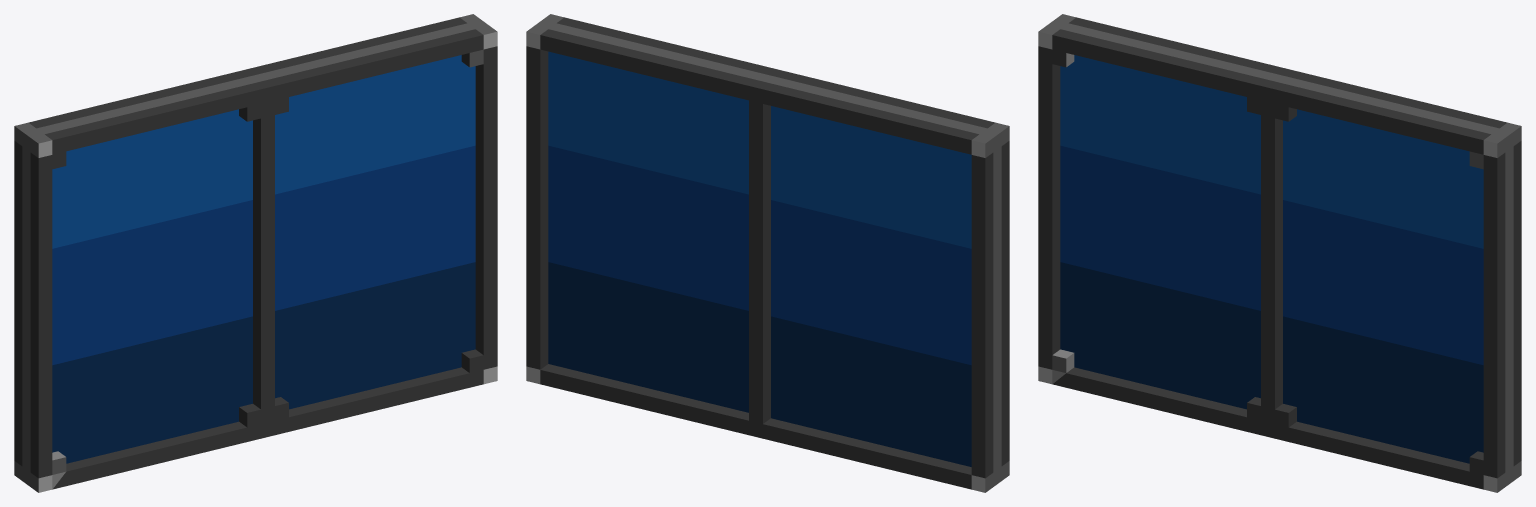
Rendered from Large Windows.FBX.
The picture shows the model from 3 angles, left to right: view 1: azimuth 30°, elevation 25°; view 2: azimuth 150°, elevation 25°; view 3: azimuth 330°, elevation 25°; orthographic projection.
Visible parts, largest first — view 1: Large Windows; view 2: Large Windows; view 3: Large Windows.
Boxes of the visible parts, box(x1,y1,x2,y2) form: Large Windows: box(14, 14, 497, 492); Large Windows: box(526, 14, 1009, 492); Large Windows: box(1038, 14, 1521, 492).
Bounding box in the file's own units: 10.23 × 7.44 × 0.9298.
6 materials, 1 textured.
